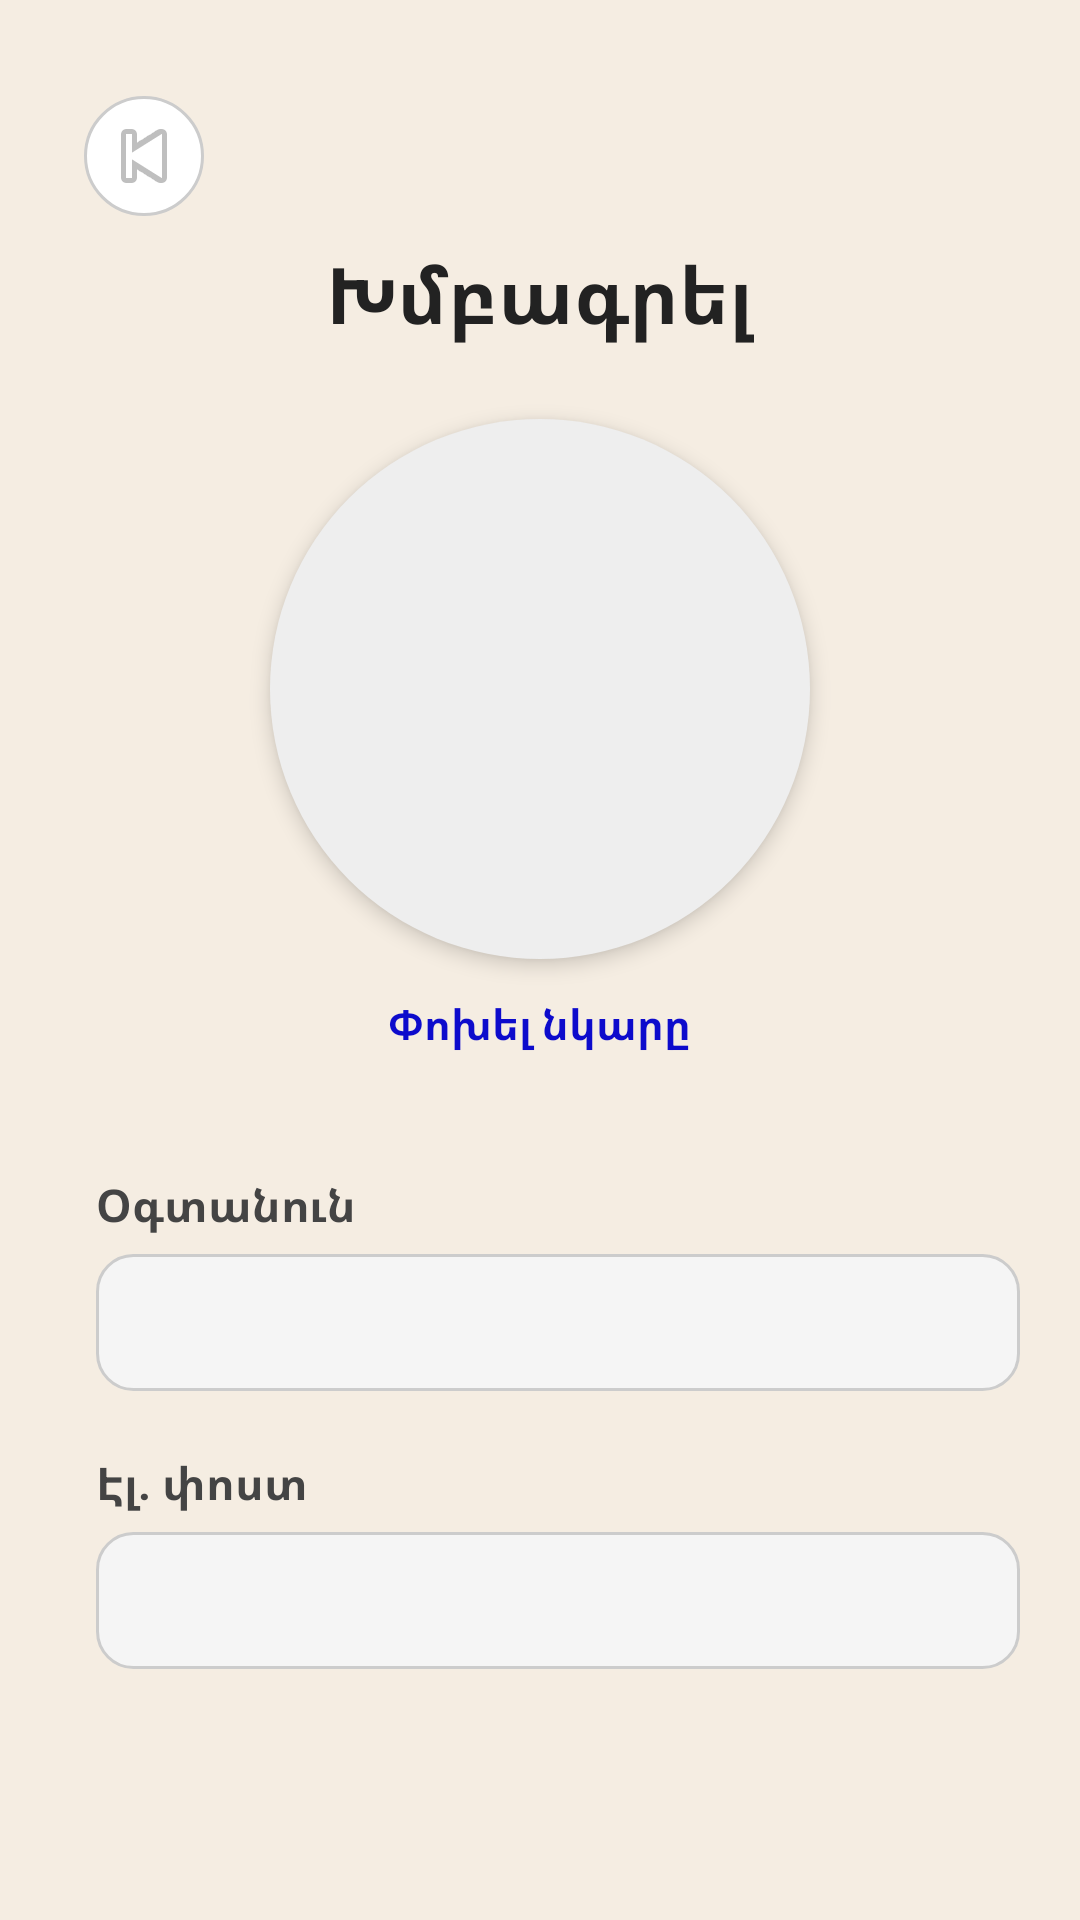

Icon bounding boxes for this 1080px x 1920px phone screenshot, format {"left": x1, "top": y1, "right": x2, "bottom": y2}:
Back: {"left": 84, "top": 96, "right": 204, "bottom": 216}
